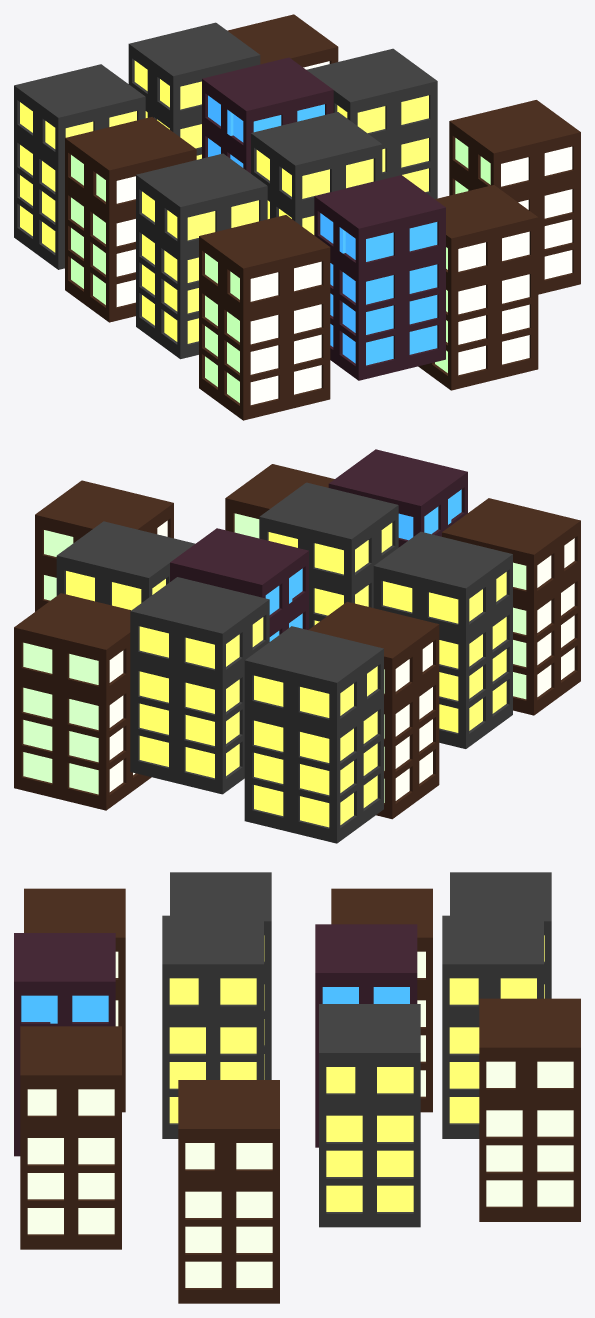
File: New Buildings.fbx
The picture shows the model from 3 angles, top to bottom: view 1: azimuth 30°, elevation 25°; view 2: azimuth 150°, elevation 25°; view 3: azimuth 270°, elevation 25°; orthographic projection. The views are drawn at different scales.
Visible parts, largest first — view 1: Cube.020, Cube.008, Cube.009, Cube.011, Cube.007, Cube.010, Cube.022, Cube.005, Cube.006, Cube.013, Cube.021, Cube.023; view 2: Cube.022, Cube.021, Cube.023, Cube.011, Cube.020, Cube.007, Cube.006, Cube.013, Cube.005, Cube.008, Cube.010, Cube.009; view 3: Cube.005, Cube.009, Cube.010, Cube.023, Cube.006, Cube.021, Cube.008, Cube.013, Cube.007, Cube.020, Cube.011, Cube.022.
Boxes of the visible parts, <box> form: Cube.020: <box>199,215,330,420</box>; Cube.008: <box>314,175,445,380</box>; Cube.009: <box>418,185,538,390</box>; Cube.011: <box>136,153,267,359</box>; Cube.007: <box>65,117,196,322</box>; Cube.010: <box>449,100,580,294</box>; Cube.022: <box>14,64,145,269</box>; Cube.005: <box>306,48,437,198</box>; Cube.006: <box>251,112,382,234</box>; Cube.013: <box>202,57,333,173</box>; Cube.021: <box>128,22,260,159</box>; Cube.023: <box>227,14,338,69</box>; Cube.022: <box>244,626,383,843</box>; Cube.021: <box>130,577,269,794</box>; Cube.023: <box>14,593,151,810</box>; Cube.011: <box>373,531,512,748</box>; Cube.020: <box>442,498,580,715</box>; Cube.007: <box>308,601,439,819</box>; Cube.006: <box>259,482,398,629</box>; Cube.013: <box>170,528,308,641</box>; Cube.005: <box>56,521,195,610</box>; Cube.008: <box>328,449,467,547</box>; Cube.010: <box>35,480,173,611</box>; Cube.009: <box>225,464,334,538</box>; Cube.005: <box>319,1004,420,1227</box>; Cube.009: <box>20,1026,121,1249</box>; Cube.010: <box>178,1080,279,1303</box>; Cube.023: <box>479,998,580,1221</box>; Cube.006: <box>162,915,263,1138</box>; Cube.021: <box>442,915,543,1138</box>; Cube.008: <box>14,933,115,1156</box>; Cube.013: <box>315,924,417,1147</box>; Cube.007: <box>331,888,432,1112</box>; Cube.020: <box>24,888,125,1112</box>; Cube.011: <box>170,872,271,1079</box>; Cube.022: <box>450,872,551,998</box>.
Bounding box in the file's own units: 55851 × 26876 × 59009.
